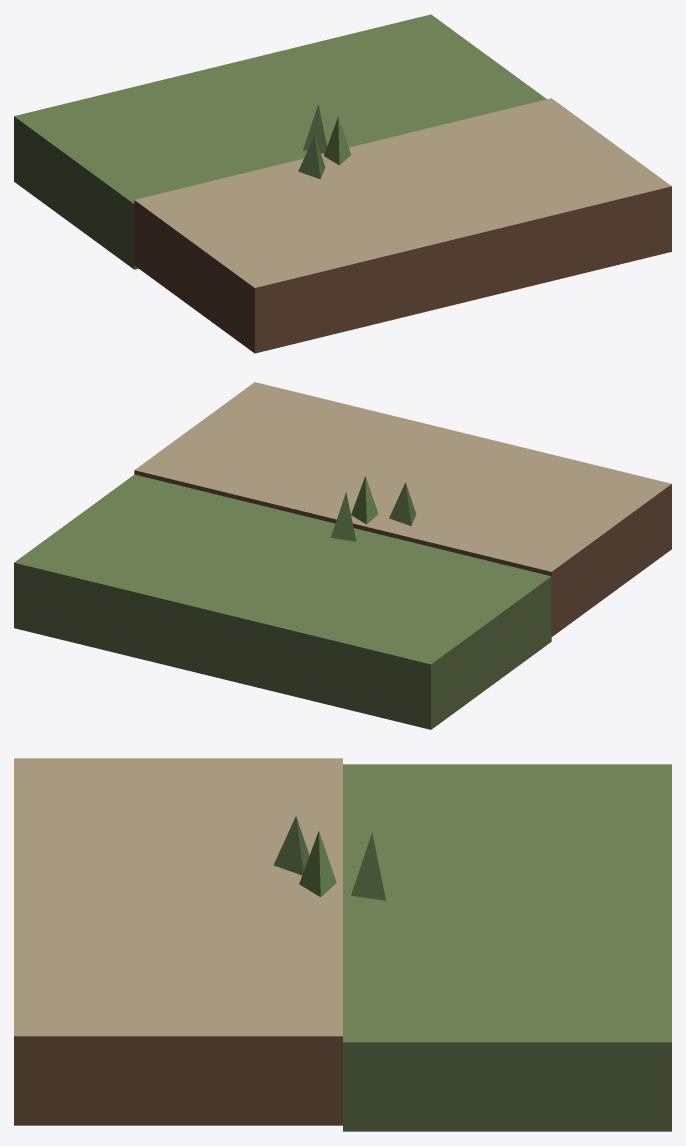
Rendered from t_path_edge.glb.
3 views of the same model, one above another, from view 1: azimuth 30°, elevation 25°; view 2: azimuth 150°, elevation 25°; view 3: azimuth 270°, elevation 25° (orthographic). The views are drawn at different scales.
Visible parts, largest first — view 1: t_path_edge; view 2: t_path_edge; view 3: t_path_edge.
Boxes of the visible parts, left/top/right/bottom form: t_path_edge: left=14, top=14, right=671, bottom=353; t_path_edge: left=14, top=382, right=671, bottom=729; t_path_edge: left=14, top=758, right=671, bottom=1131.
Size of the model in its own units: 2 by 0.5136 by 2.
